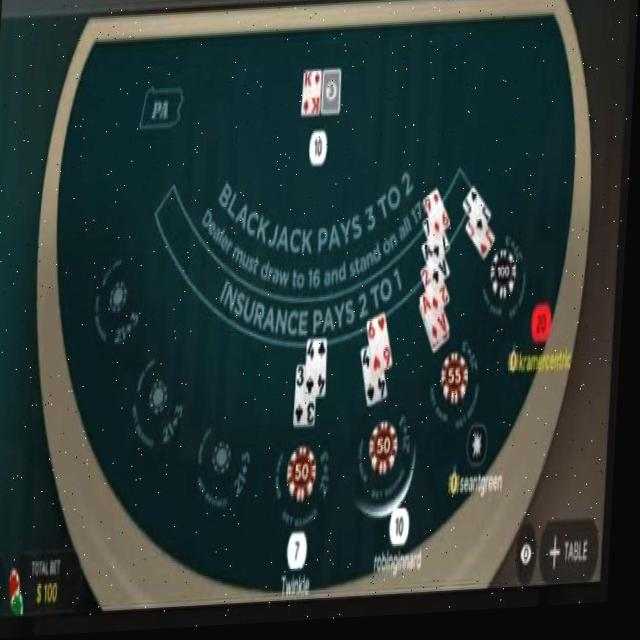Card-2: (423, 270, 453, 321)
Card-3: (297, 368, 320, 428)
Card-4: (365, 351, 392, 412), (309, 341, 330, 401)
Card-6: (370, 316, 397, 380)
Card-7: (425, 221, 454, 264)
Card-9: (426, 193, 453, 240)
Card-A: (422, 297, 453, 359), (424, 244, 453, 289)
Card-J: (465, 191, 494, 243), (468, 224, 497, 267)
Card-K: (302, 73, 323, 121)
